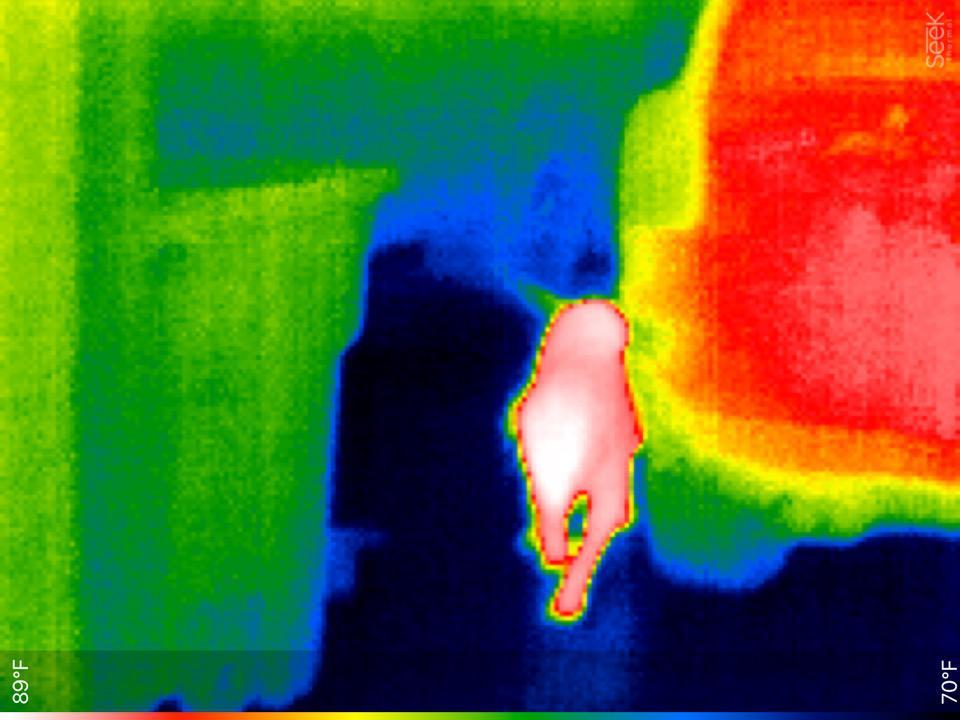dog: (493, 295, 653, 625)
